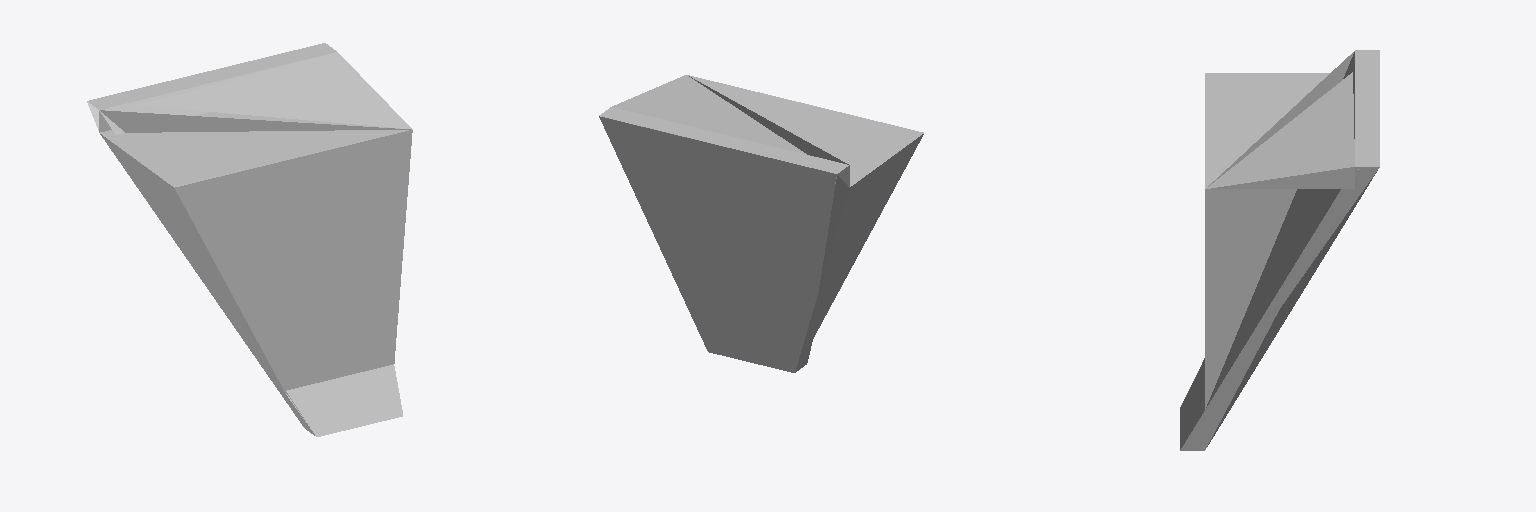
File: Med Bay Locker 7.obj
3 views of the same model, side by side, from view 1: azimuth 30°, elevation 25°; view 2: azimuth 150°, elevation 25°; view 3: azimuth 270°, elevation 25° (orthographic).
Bounding box in the file's own units: 11 × 13 × 8.